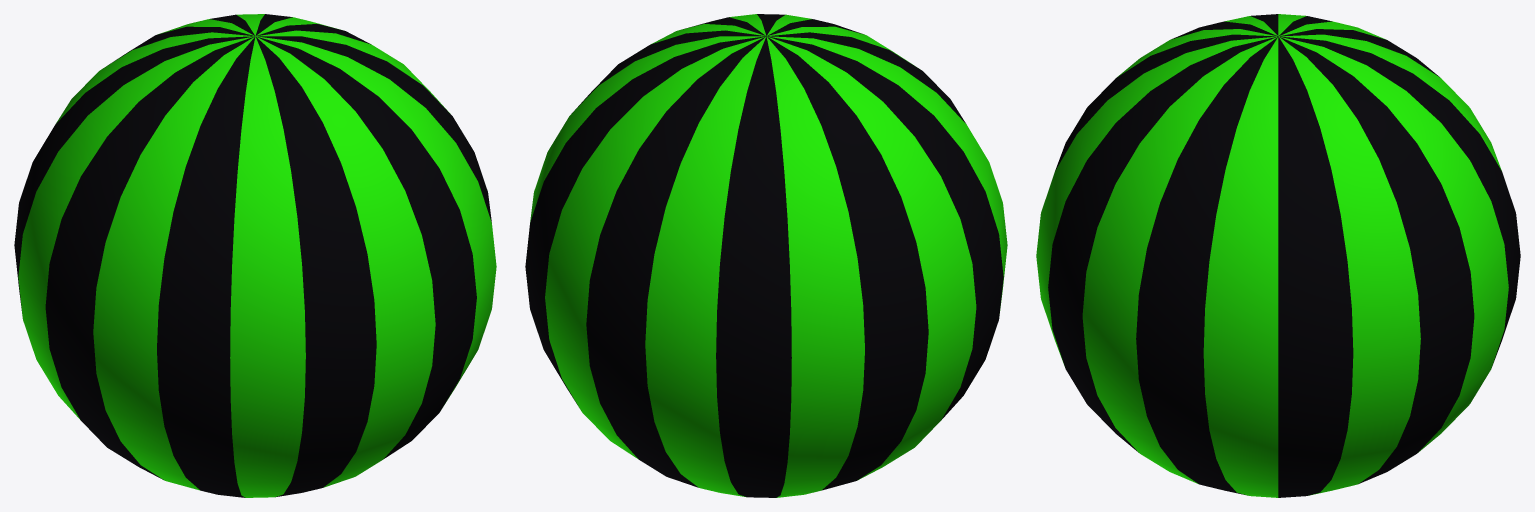
The model's file is semangka.fbx.
3 views of the same model, side by side, from view 1: azimuth 30°, elevation 25°; view 2: azimuth 150°, elevation 25°; view 3: azimuth 270°, elevation 25° (orthographic).
Visible parts, largest first — view 1: Semangka; view 2: Semangka; view 3: Semangka.
Boxes of the visible parts, x1,y1,x2,y2 form: Semangka: [14, 14, 496, 497]; Semangka: [525, 14, 1007, 497]; Semangka: [1036, 14, 1520, 497].
Size of the model in its own units: 471 by 471 by 471.
